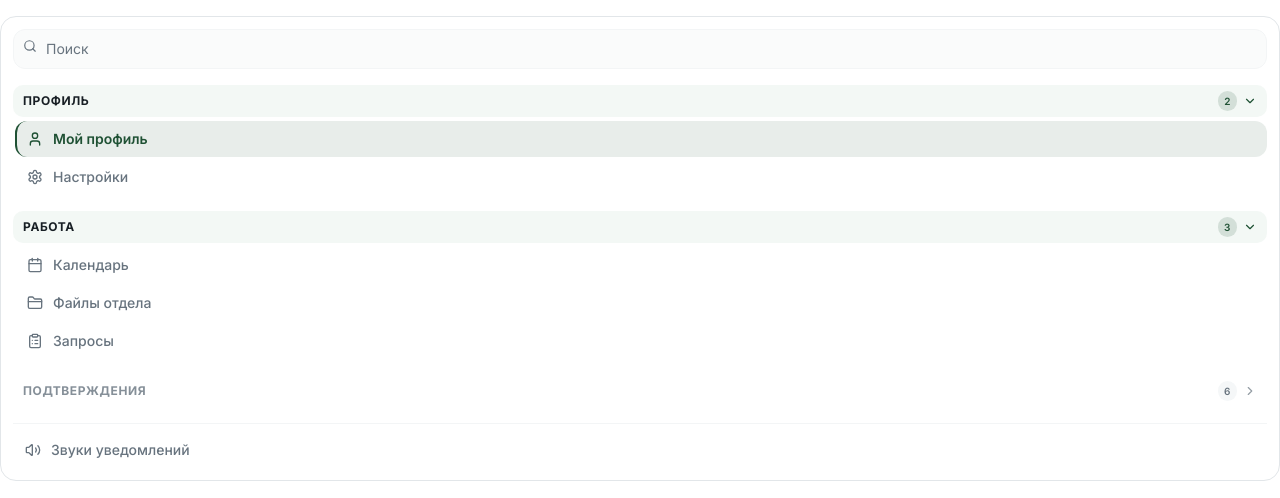
Test case: ProfileSidebar — блок «Подтверждения» › поиск находит пункты блока и раскрывает его со счётчиком
Type "бюдж" into the field. click: (640, 49)
box: 13,29 -> 1267,69
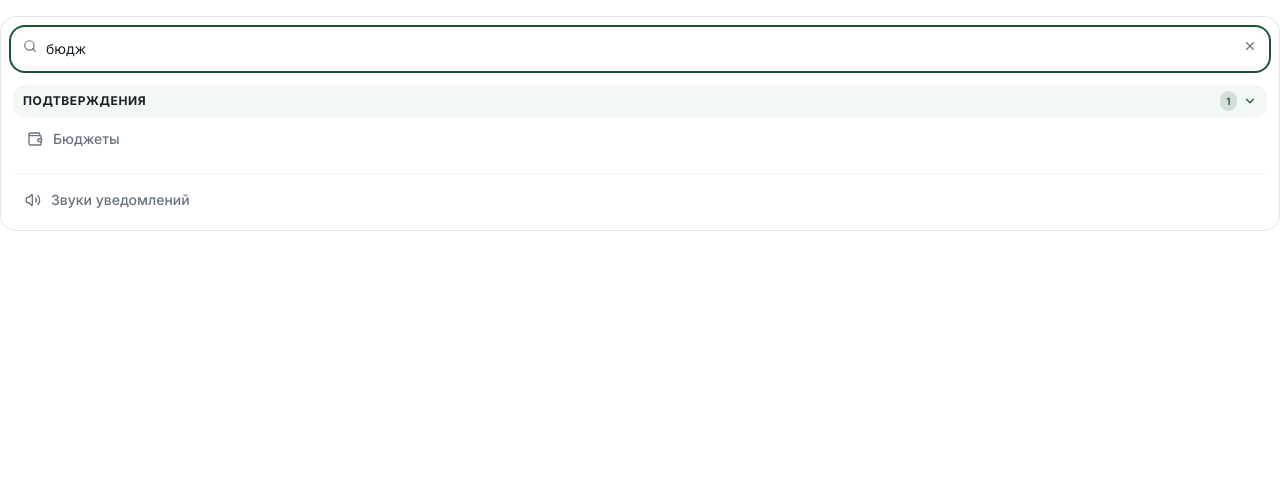
expect the button "Подтверждения 1" is shown: met, box 13,85 -> 1267,117
